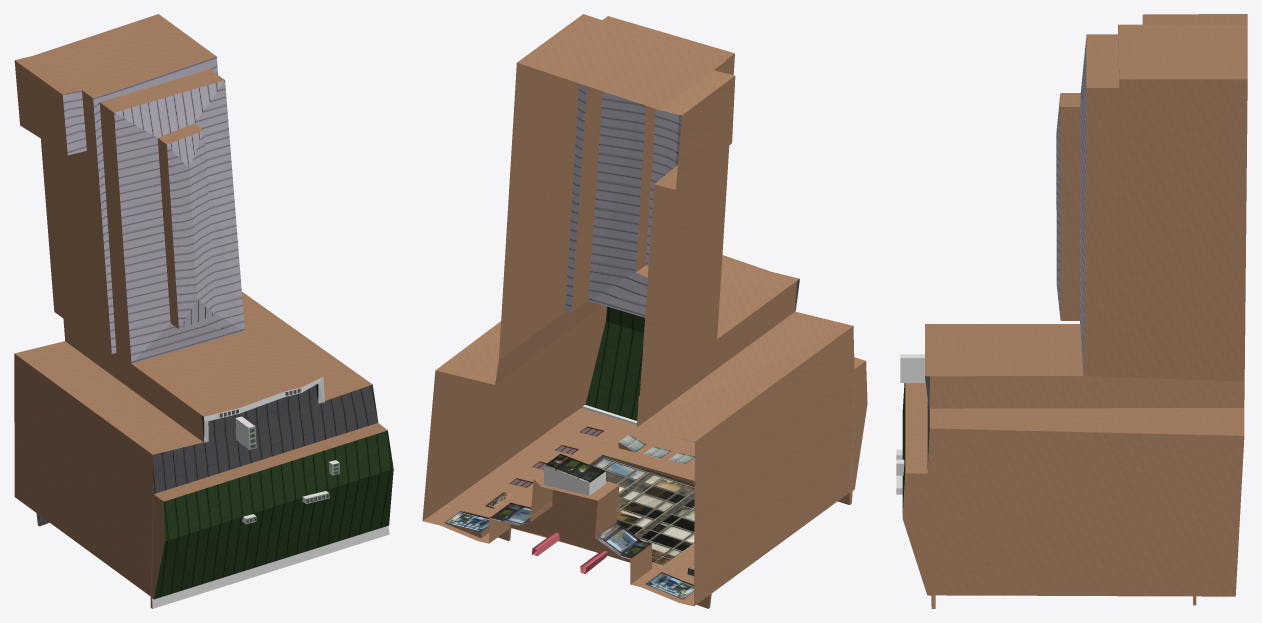
File: Vabaduse8-origo.obj
3 views of the same model, side by side, from view 1: azimuth 30°, elevation 25°; view 2: azimuth 150°, elevation 25°; view 3: azimuth 270°, elevation 25° (orthographic). The views are drawn at different scales.
Parts seen in each view (by area): view 1: polySurface3; view 2: polySurface3; view 3: polySurface3.
Part boxes in pixels (bbox=[...]): polySurface3: bbox=[14, 14, 393, 608]; polySurface3: bbox=[422, 14, 867, 608]; polySurface3: bbox=[896, 14, 1247, 608].
Bounding box in the file's own units: 22.5 × 41.5 × 26.08.
